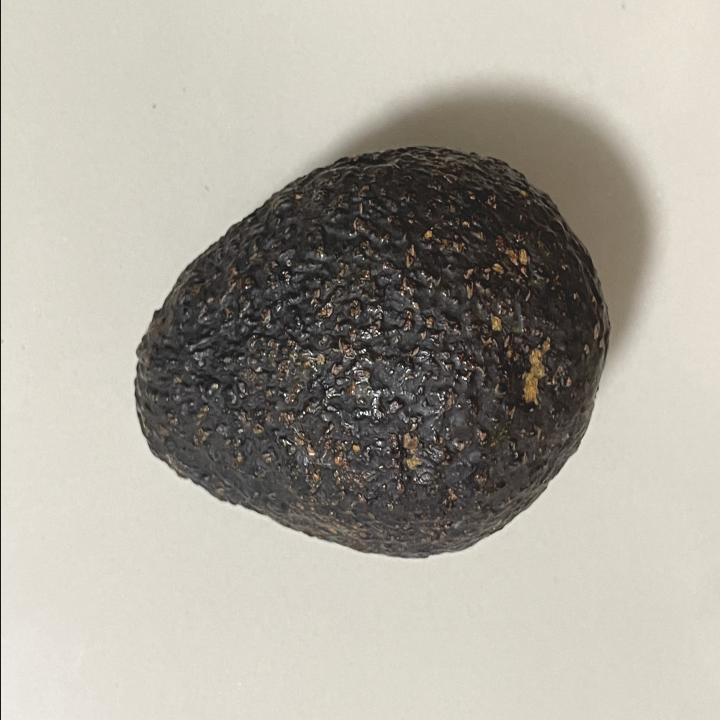Level3: (123, 136, 617, 572)
